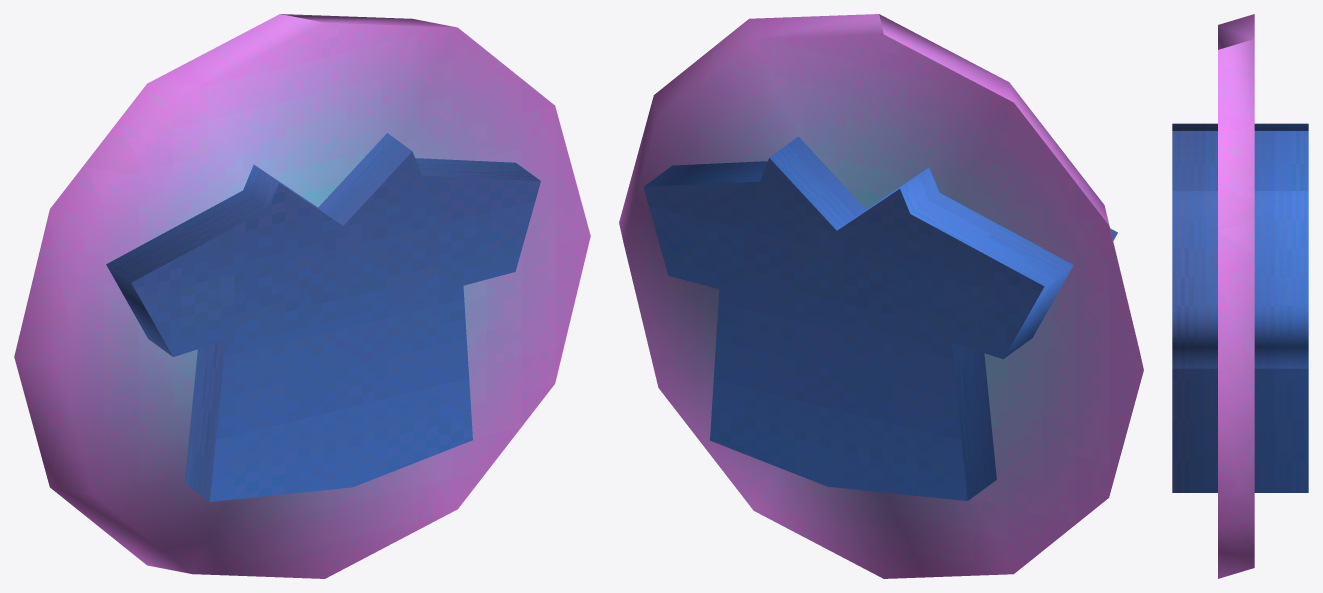
The model's file is Clothes.fbx.
3 views of the same model, side by side, from view 1: azimuth 30°, elevation 25°; view 2: azimuth 150°, elevation 25°; view 3: azimuth 270°, elevation 25° (orthographic). The views are drawn at different scales.
Parts seen in each view (by area): view 1: clothesp; view 2: clothesp; view 3: clothesp.
Boxes of the visible parts, bbox=[...] form: clothesp: bbox=[14, 14, 590, 578]; clothesp: bbox=[619, 14, 1143, 578]; clothesp: bbox=[1172, 14, 1308, 578].
Bounding box in the file's own units: 62.8 × 60 × 14.7.
Materials: 2 (2 with a texture image).
